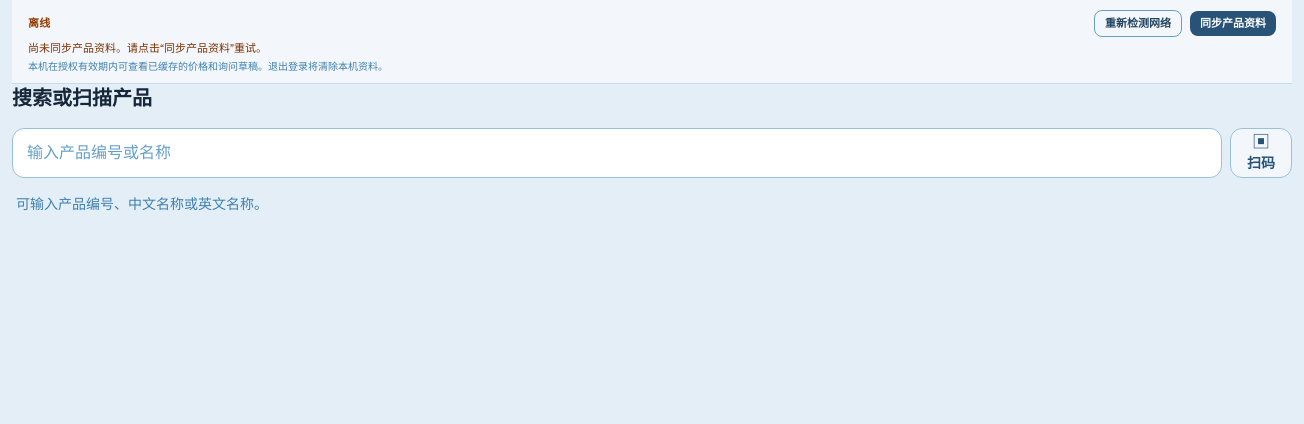
it: search while the browser reports offline › searches the cached catalogue and says so
The width and height of the screenshot is (1304, 424).
Expected: the text "离线" is shown, [28,15,51,32]
Type "K10188-13" into the search field named "搜索产品" at (617, 153), box [12,128,1222,178]
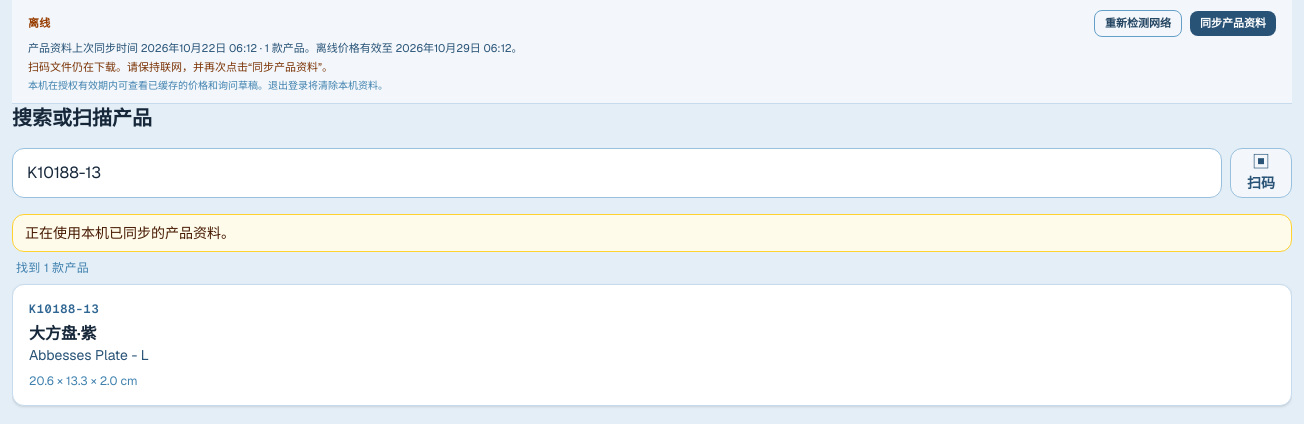
Result: the text "K10188-13" is shown at [29,300,99,316]
Result: the text "正在使用本机已同步的产品资料。" is shown at [12,214,1292,252]
